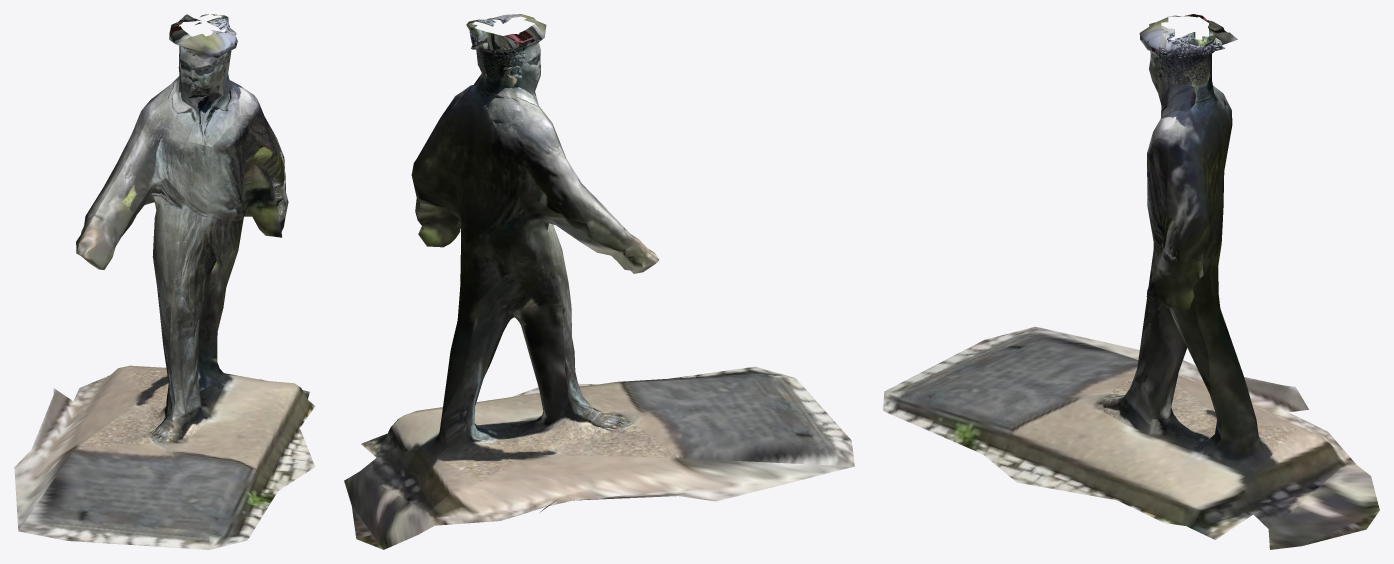
File: Estatua_DdM_alone.glb
The picture shows the model from 3 angles, left to right: view 1: azimuth 30°, elevation 25°; view 2: azimuth 150°, elevation 25°; view 3: azimuth 270°, elevation 25°; orthographic projection. The views are drawn at different scales.
Parts seen in each view (by area): view 1: Mesh_4001; view 2: Mesh_4001; view 3: Mesh_4001.
Part boxes in pixels (x1,y1,x2,y2): Mesh_4001: (14, 14, 315, 549); Mesh_4001: (344, 14, 854, 549); Mesh_4001: (883, 14, 1379, 549).
Bounding box in the file's own units: 1.75 × 1.91 × 1.82.
Materials: 1 (1 with a texture image).
